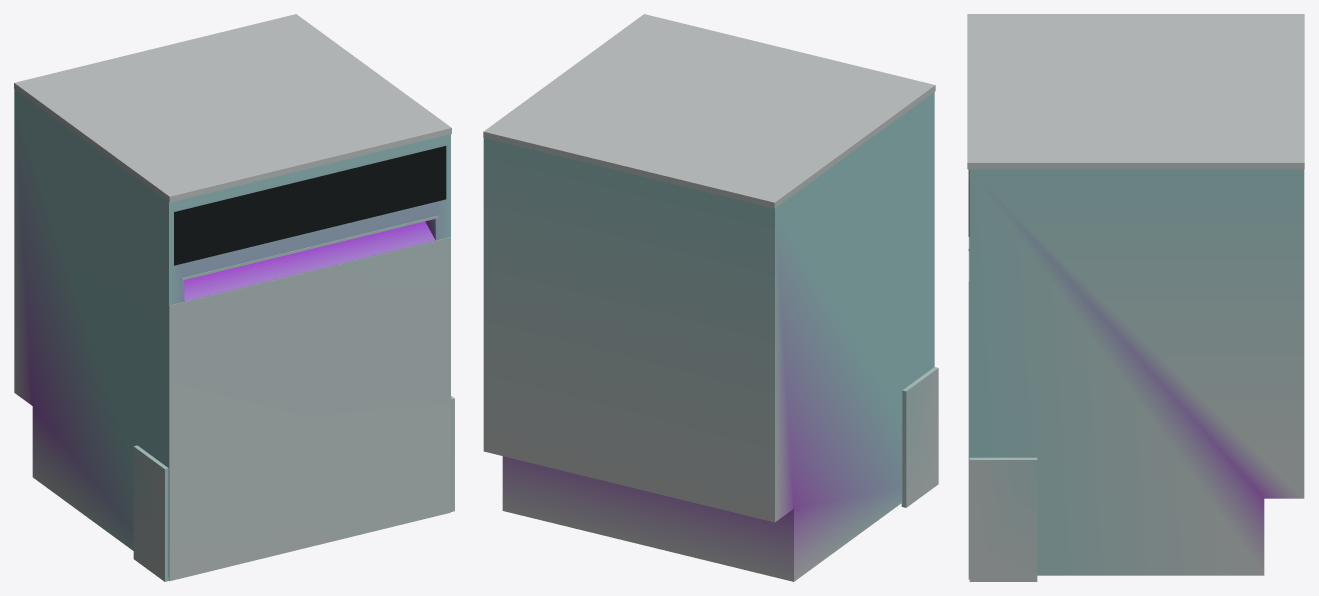
3 renders of one model, left to right at view 1: azimuth 30°, elevation 25°; view 2: azimuth 150°, elevation 25°; view 3: azimuth 270°, elevation 25°, orthographic. The views are drawn at different scales.
Visible parts, largest first — view 1: front_panel, enclosure, top_slab, recessed_band, lower_tab.003, pull_strip; view 2: enclosure, top_slab, lower_tab.003; view 3: enclosure, top_slab, lower_tab, front_panel.
Boxes of the visible parts, box(x1,y1,x2,y2) form: front_panel: box(169, 237, 450, 580); enclosure: box(14, 89, 450, 576); top_slab: box(14, 14, 451, 202); recessed_band: box(174, 146, 446, 265); lower_tab.003: box(133, 445, 169, 581); pull_strip: box(181, 215, 438, 280); enclosure: box(483, 92, 934, 581); top_slab: box(483, 14, 935, 208); lower_tab.003: box(901, 367, 938, 507); enclosure: box(969, 169, 1304, 575); top_slab: box(967, 14, 1304, 169); lower_tab: box(969, 457, 1037, 581); front_panel: box(968, 251, 969, 579).
Bounding box in the file's own units: 0.6701 × 0.85 × 0.623.
